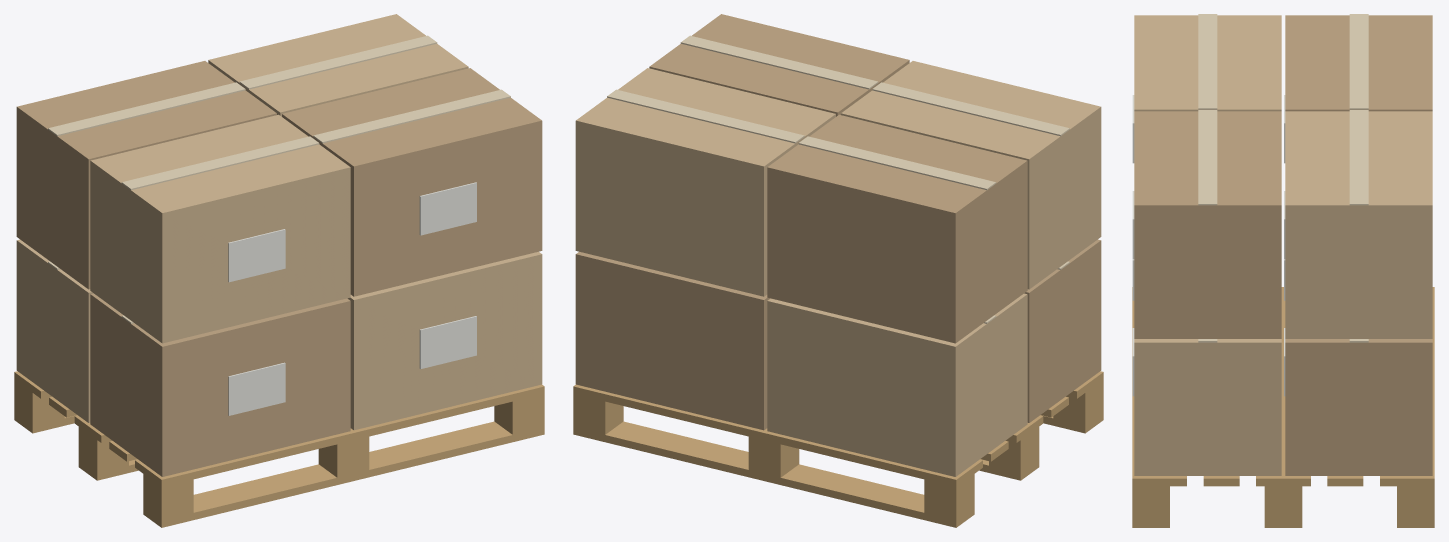
The model's file is pallet-medium-boxes.glb.
3 renders of one model, left to right at view 1: azimuth 30°, elevation 25°; view 2: azimuth 150°, elevation 25°; view 3: azimuth 270°, elevation 25°, orthographic. The views are drawn at different scales.
Visible parts, largest first — view 1: Prop_PalletMediumBoxes_mesh; view 2: Prop_PalletMediumBoxes_mesh; view 3: Prop_PalletMediumBoxes_mesh.
Boxes of the visible parts, left/top/right/bottom form: Prop_PalletMediumBoxes_mesh: left=14, top=14, right=544, bottom=527; Prop_PalletMediumBoxes_mesh: left=573, top=14, right=1103, bottom=527; Prop_PalletMediumBoxes_mesh: left=1132, top=14, right=1434, bottom=527.
Size of the model in its own units: 1.2 by 0.943 by 0.8.
